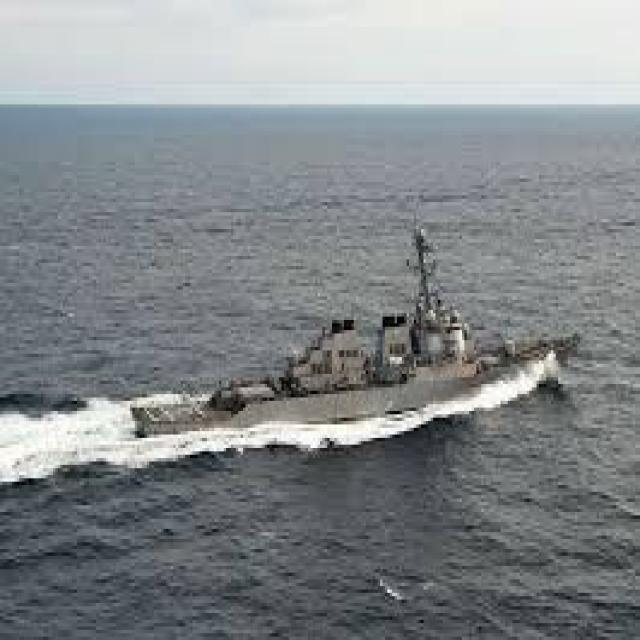navalvessels: (100, 167, 584, 430)
